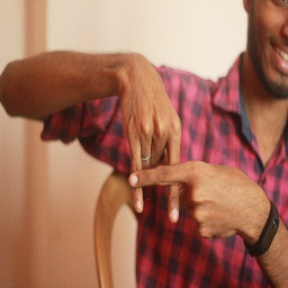H: (115, 118, 211, 226)
